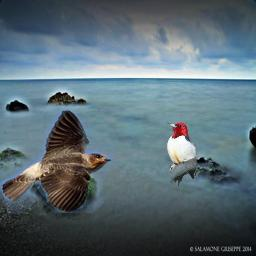Swallow: (0, 108, 115, 213)
Woodpecker: (165, 122, 198, 189)
